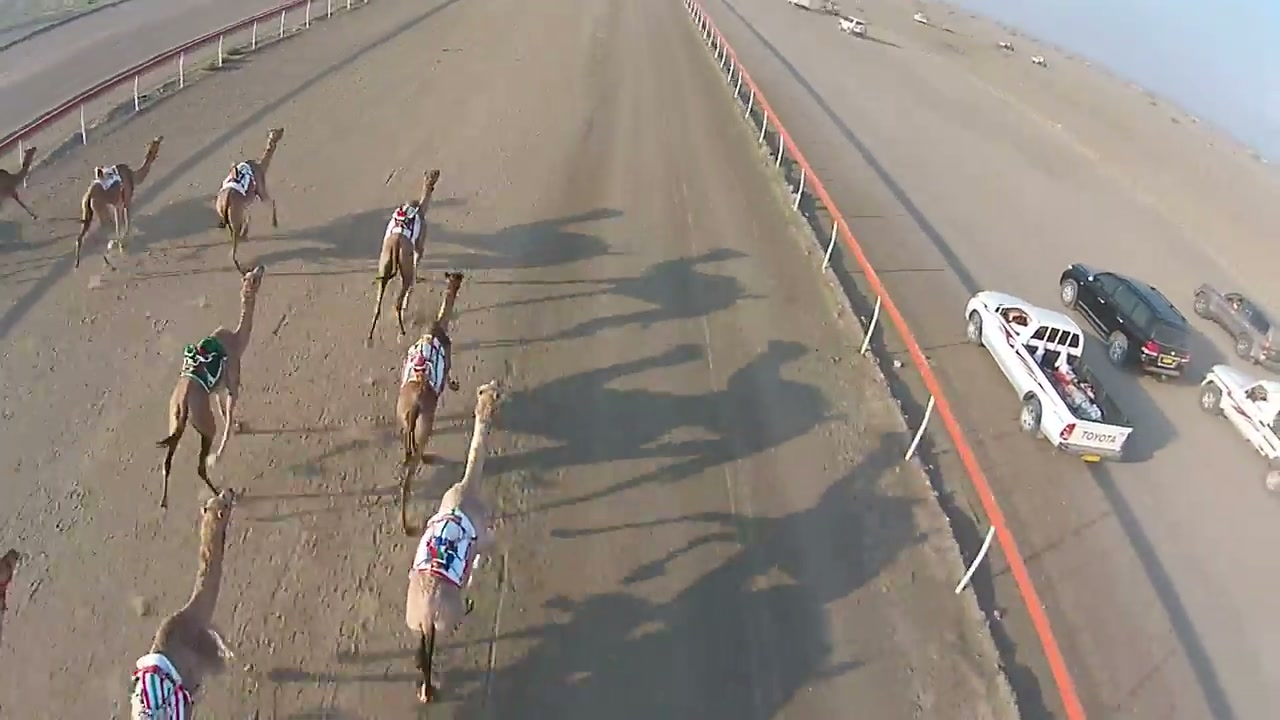animal_foot_print: (15, 269, 175, 591), (220, 398, 313, 719), (315, 346, 404, 677)
